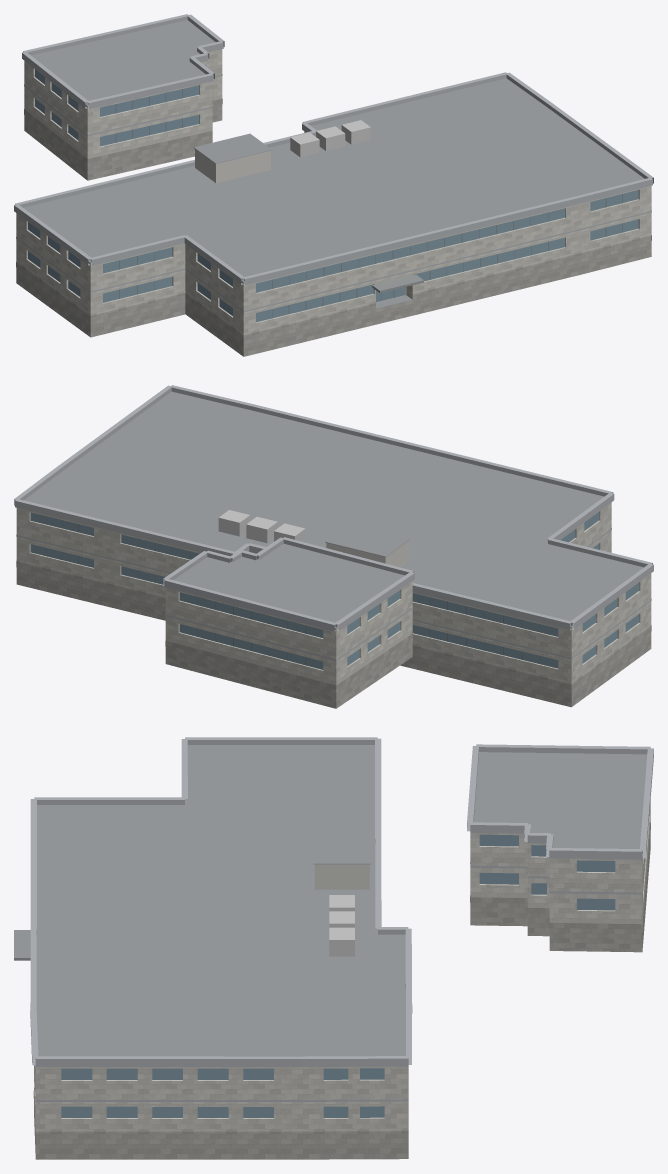
The picture shows the model from 3 angles, top to bottom: view 1: azimuth 30°, elevation 25°; view 2: azimuth 150°, elevation 25°; view 3: azimuth 270°, elevation 25°; orthographic projection. The views are drawn at different scales.
Parts seen in each view (by area): view 1: centralPlantE12__roof, centralPlantE12__wall, centralPlantE12__base, centralPlantE12__trim, centralPlantE12__glass, centralPlantE12__roofMetal, centralPlantE12__wall2, centralPlantE12__frame; view 2: centralPlantE12__roof, centralPlantE12__wall, centralPlantE12__trim, centralPlantE12__base, centralPlantE12__glass, centralPlantE12__roofMetal, centralPlantE12__wall2; view 3: centralPlantE12__roof, centralPlantE12__wall, centralPlantE12__trim, centralPlantE12__base, centralPlantE12__glass, centralPlantE12__roofMetal, centralPlantE12__wall2.
Boxes of the visible parts, box(x1,y1,x2,y2) form: centralPlantE12__roof: box(23, 20, 644, 308); centralPlantE12__wall: box(16, 49, 651, 340); centralPlantE12__base: box(16, 99, 651, 356); centralPlantE12__trim: box(14, 14, 653, 312); centralPlantE12__glass: box(28, 69, 638, 322); centralPlantE12__roofMetal: box(290, 120, 370, 157); centralPlantE12__wall2: box(195, 149, 270, 183); centralPlantE12__frame: box(115, 89, 622, 318); centralPlantE12__roof: box(24, 391, 643, 627); centralPlantE12__wall: box(16, 502, 651, 691); centralPlantE12__trim: box(14, 385, 653, 660); centralPlantE12__base: box(16, 561, 651, 708); centralPlantE12__glass: box(30, 512, 638, 669); centralPlantE12__roofMetal: box(218, 510, 305, 543); centralPlantE12__wall2: box(326, 541, 408, 567); centralPlantE12__roof: box(36, 745, 647, 1106); centralPlantE12__wall: box(34, 801, 650, 1132); centralPlantE12__trim: box(30, 737, 653, 1101); centralPlantE12__base: box(33, 823, 650, 1159); centralPlantE12__glass: box(61, 834, 615, 1117); centralPlantE12__roofMetal: box(329, 895, 354, 956); centralPlantE12__wall2: box(314, 864, 369, 889).
Bounding box in the file's own units: 83.25 × 19.8 × 69.98.
10 materials, 2 textured.
